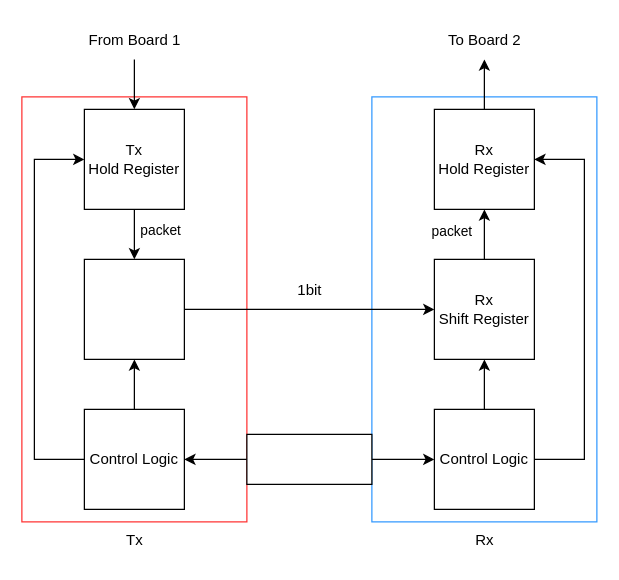
The diagram is 619 pixels wide and 580 high, and some of its shapes have lost their labels. The shapes that lost their labels are listed below. From the top down, each one's box as (x1, y1, x2, y2) in pixels, then its label:
(83, 258, 184, 359): Tx Shift Regiter
(246, 433, 372, 484): Baud Rate Generator
